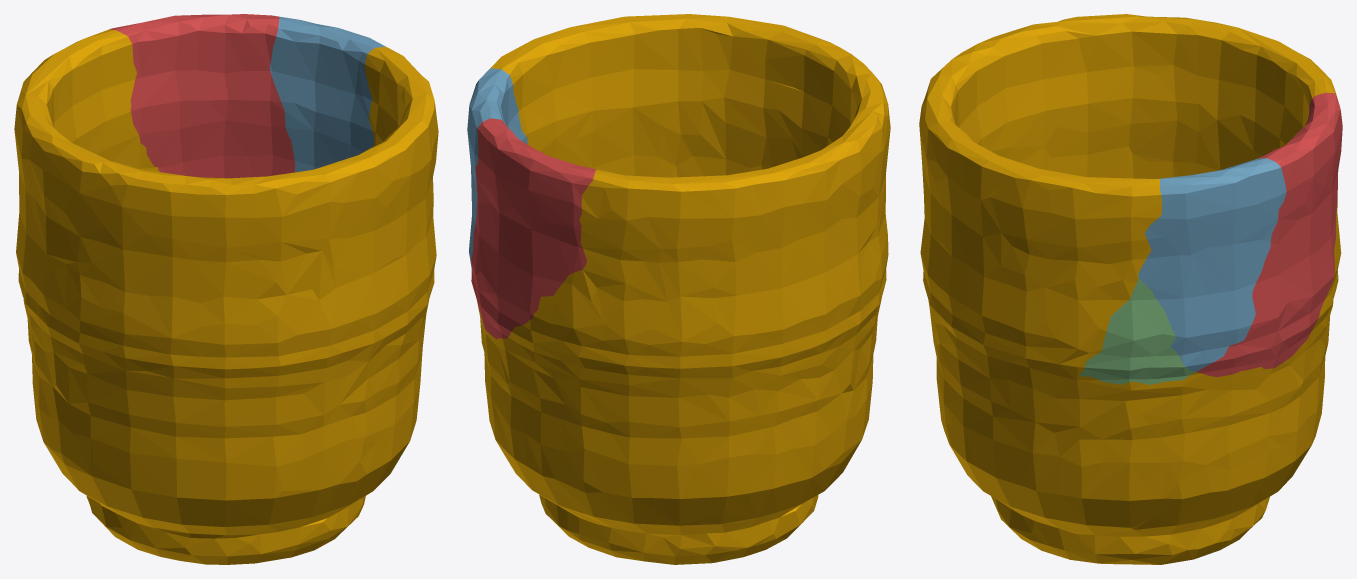
The model's file is fractured_46_4pcs.glb.
3 views of the same model, side by side, from view 1: azimuth 30°, elevation 25°; view 2: azimuth 150°, elevation 25°; view 3: azimuth 270°, elevation 25° (orthographic).
Visible parts, largest first — view 1: piece_0.obj, piece_1.obj, piece_2.obj; view 2: piece_0.obj, piece_1.obj, piece_2.obj; view 3: piece_0.obj, piece_2.obj, piece_1.obj, piece_3.obj.
Boxes of the visible parts, left/top/right/bottom form: piece_0.obj: left=14, top=29, right=438, bottom=564; piece_1.obj: left=109, top=14, right=295, bottom=178; piece_2.obj: left=269, top=16, right=385, bottom=172; piece_0.obj: left=477, top=14, right=890, bottom=564; piece_1.obj: left=471, top=118, right=596, bottom=338; piece_2.obj: left=467, top=68, right=527, bottom=269; piece_0.obj: left=919, top=14, right=1341, bottom=564; piece_2.obj: left=1138, top=158, right=1286, bottom=371; piece_1.obj: left=1196, top=92, right=1342, bottom=377; piece_3.obj: left=1078, top=278, right=1195, bottom=384.
Size of the model in its own units: 0.9237 by 1 by 0.923.
